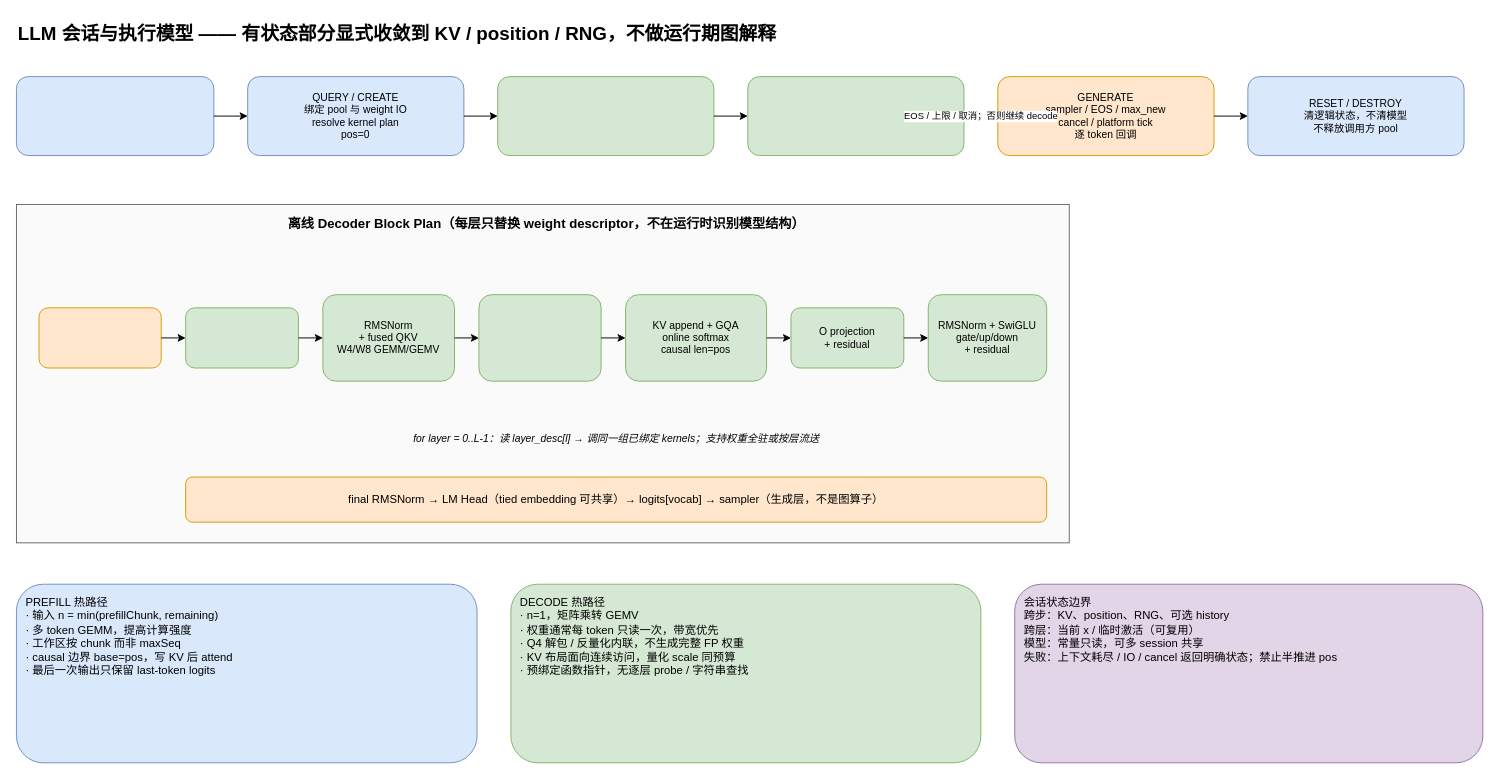
The diagram is 1499 pixels wide and 779 high, and some of its shapes have lost their labels. Each missing label, with the centre of its shape:
"DECODE 输入上一 token 输出 logits KV append，pos++" belongs at [855,116].
"GATHER embedding" belongs at [241,337].
"MODEL_VIEW 校验版本 / 边界 / CRC 只读共享" belongs at [115,116].
"PREFILL_READY 可重复 prefill_chunk 0 < pos ≤ maxSeq" belongs at [605,116].
"Q/K norm + RoPE pos 代入" belongs at [539,337].
"token ids + position" belongs at [99,337].
